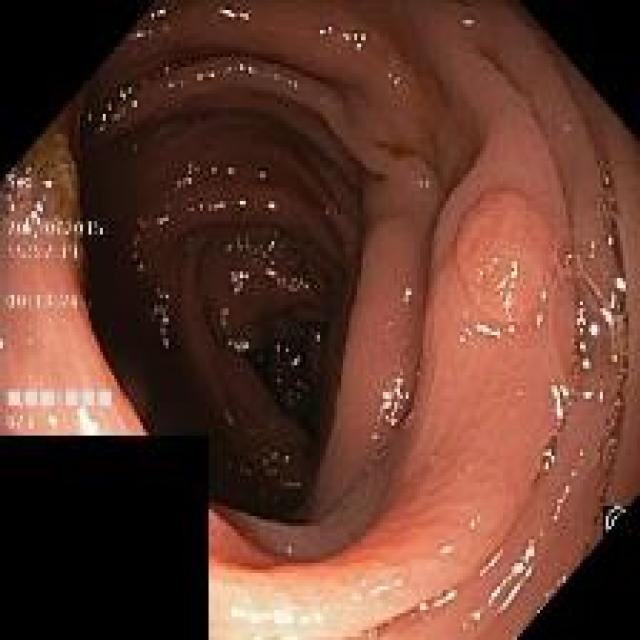Polyps: (455, 192, 556, 328)
